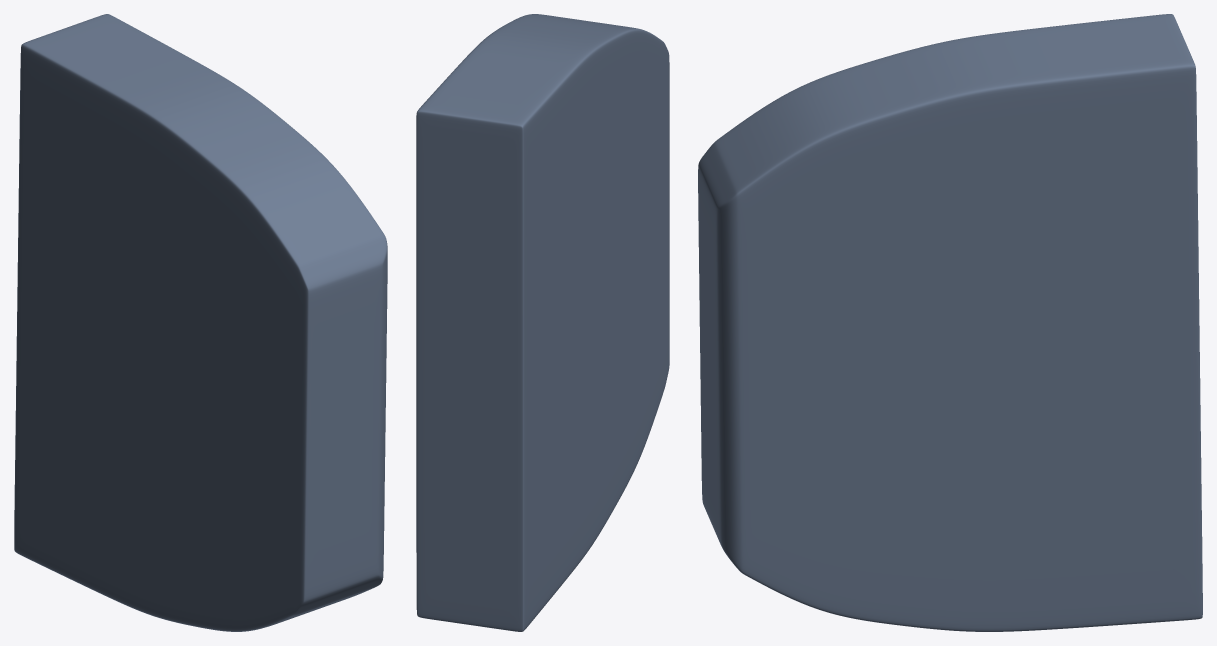
3 views of the same model, side by side, from view 1: azimuth 30°, elevation 25°; view 2: azimuth 150°, elevation 25°; view 3: azimuth 270°, elevation 25° (orthographic). The views are drawn at different scales.
Parts seen in each view (by area): view 1: Cube.035; view 2: Cube.035; view 3: Cube.035.
Boxes of the visible parts, <box> form: Cube.035: <box>14,14,387,631</box>; Cube.035: <box>416,14,669,631</box>; Cube.035: <box>698,14,1202,631</box>.
Bounding box in the file's own units: 0.00802 × 0.0232 × 0.019.
